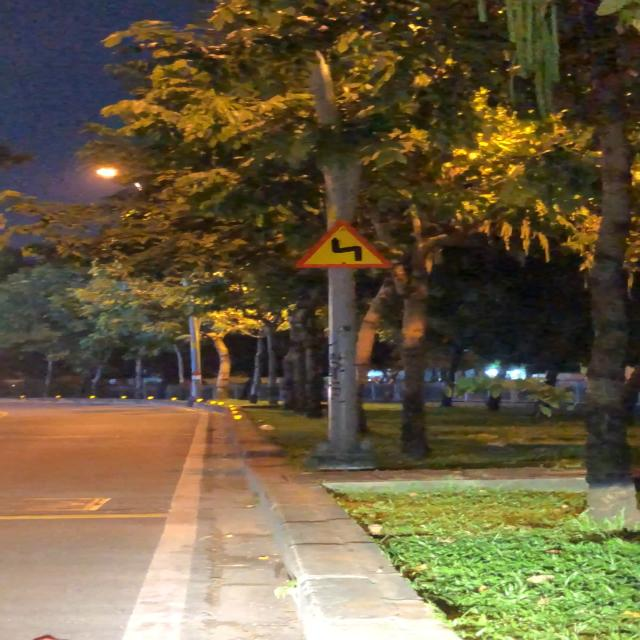Bien bao nhieu cho ngoat nguy hiem lien tiep: (290, 217, 400, 271)
